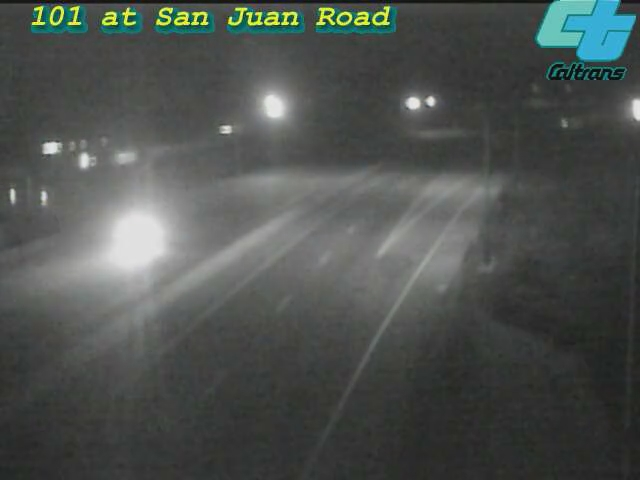vehicle: (101, 196, 181, 276)
